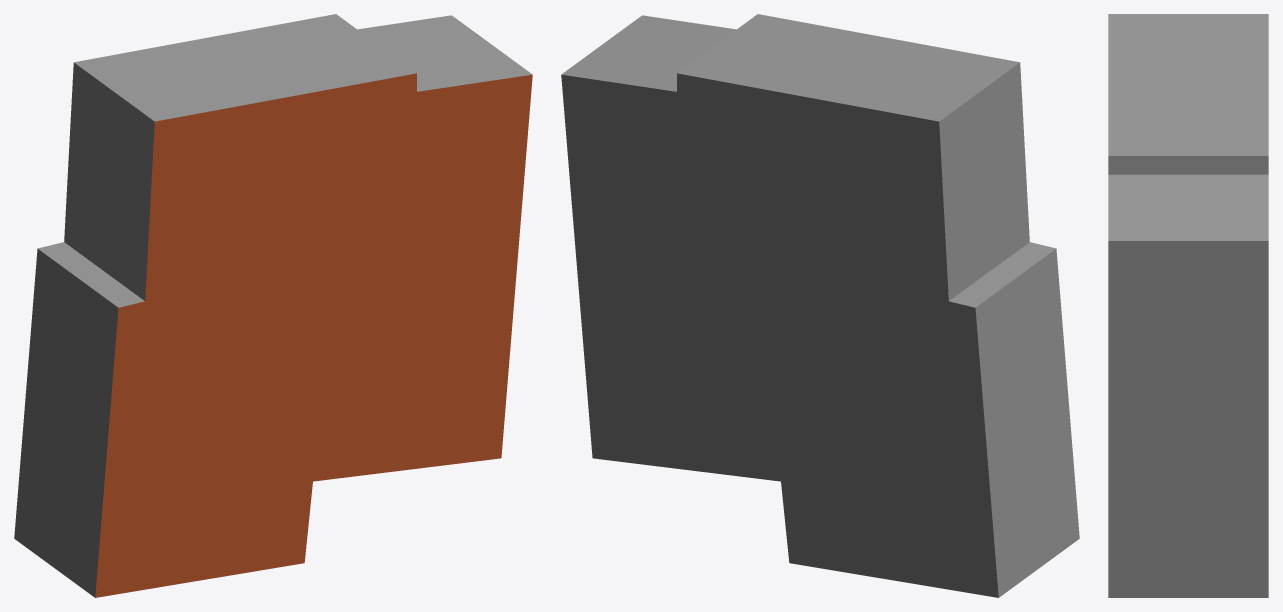
Rendered from construction_6823_assumed_A_Casa_h6m.obj.
The picture shows the model from 3 angles, left to right: view 1: azimuth 30°, elevation 25°; view 2: azimuth 150°, elevation 25°; view 3: azimuth 270°, elevation 25°; orthographic projection.
Visible parts, largest first — view 1: construction_6823_assumed_A_Casa; view 2: construction_6823_assumed_A_Casa; view 3: construction_6823_assumed_A_Casa.
Part boxes in pixels (x1=…): construction_6823_assumed_A_Casa: x1=14, y1=14, x2=532, y2=597; construction_6823_assumed_A_Casa: x1=561, y1=14, x2=1079, y2=597; construction_6823_assumed_A_Casa: x1=1108, y1=14, x2=1268, y2=597.
Bounding box in the file's own units: 18.71 × 19.53 × 6.
